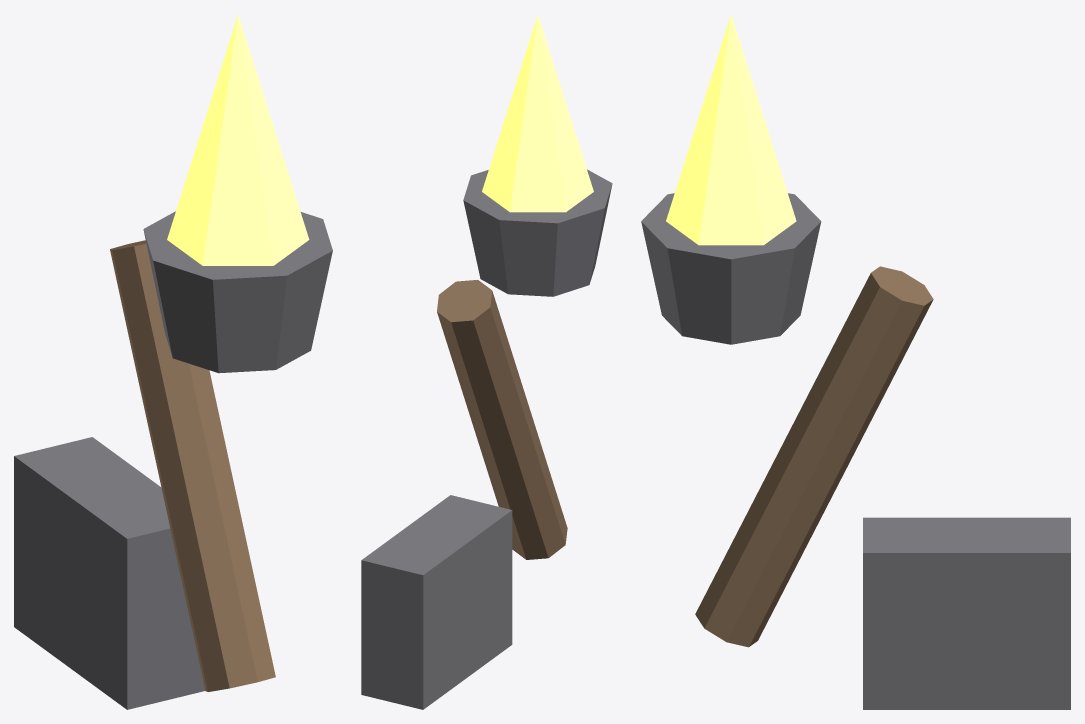
Rendered from torch_wall.glb.
The picture shows the model from 3 angles, left to right: view 1: azimuth 30°, elevation 25°; view 2: azimuth 150°, elevation 25°; view 3: azimuth 270°, elevation 25°; orthographic projection. The views are drawn at different scales.
Visible parts, largest first — view 1: torch_wall; view 2: torch_wall; view 3: torch_wall.
Part boxes in pixels (bbox=[...]): torch_wall: bbox=[14, 14, 332, 709]; torch_wall: bbox=[361, 14, 612, 709]; torch_wall: bbox=[641, 14, 1070, 709].
Size of the model in its own units: 0.26 by 1.08 by 0.62.
